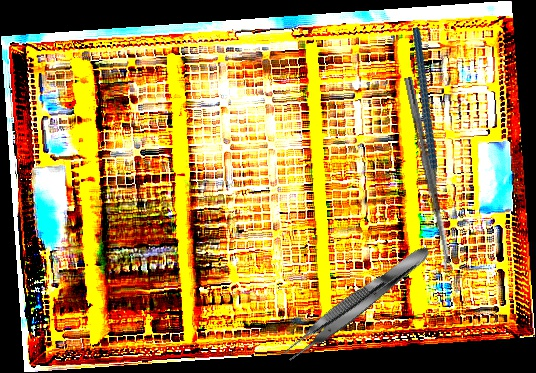Chopper: (376, 26, 489, 220)
Surgical Spoon: (403, 76, 453, 273)
Tissue Forceps: (279, 240, 436, 367)
